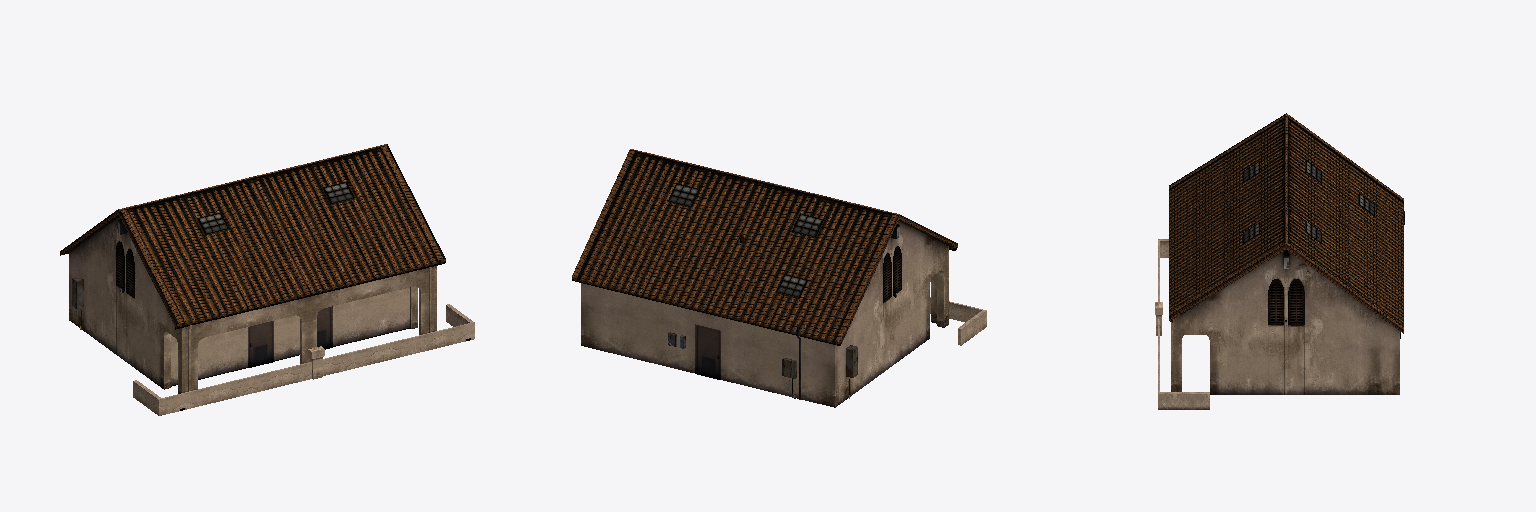
3 views of the same model, side by side, from view 1: azimuth 30°, elevation 25°; view 2: azimuth 150°, elevation 25°; view 3: azimuth 270°, elevation 25° (orthographic).
Parts seen in each view (by area): view 1: City_building_041; view 2: City_building_041; view 3: City_building_041.
Part boxes in pixels (left/top/right/bottom): City_building_041: left=60, top=144, right=474, bottom=415; City_building_041: left=572, top=149, right=986, bottom=407; City_building_041: left=1155, top=113, right=1404, bottom=409.
Bounding box in the file's own units: 10.11 × 4.71 × 6.92.
1 materials, 1 textured.